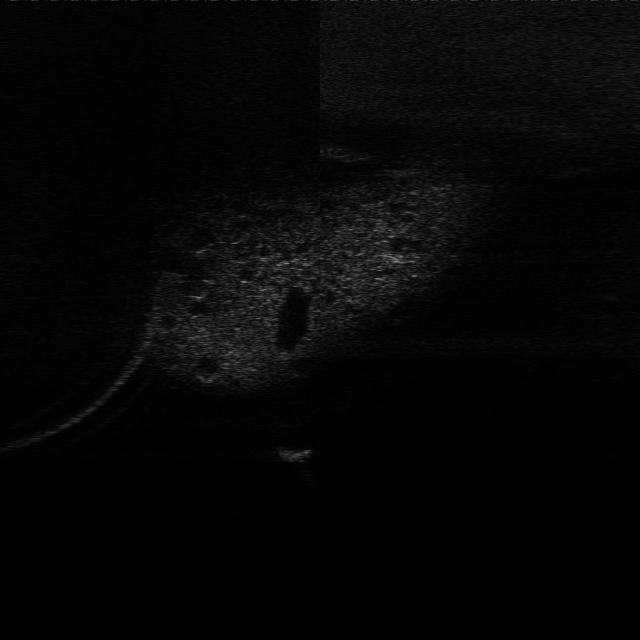cube: (277, 438, 317, 468)
